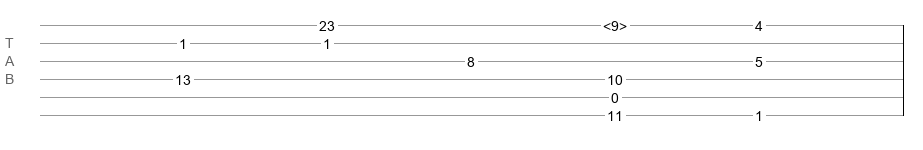0: (611, 90, 619, 100)
1: (179, 36, 187, 46), (323, 36, 331, 46), (755, 108, 763, 118)
10: (607, 72, 623, 82)
11: (607, 108, 623, 118)
13: (175, 72, 191, 82)
23: (319, 18, 335, 28)
4: (755, 18, 763, 28)
5: (755, 54, 763, 64)
8: (467, 54, 475, 64)
harmonic: (603, 18, 627, 28)
